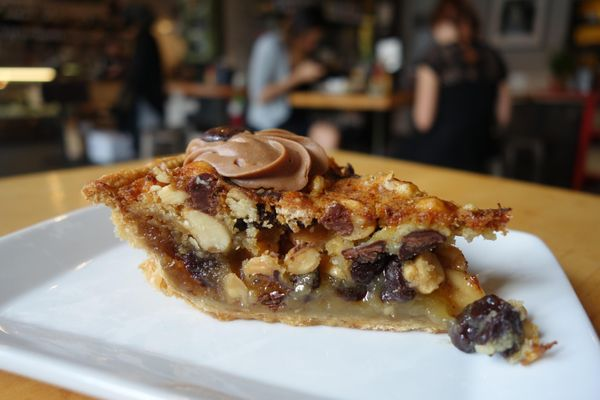curry: (28, 130, 599, 388)
sandwich: (81, 127, 589, 333)
